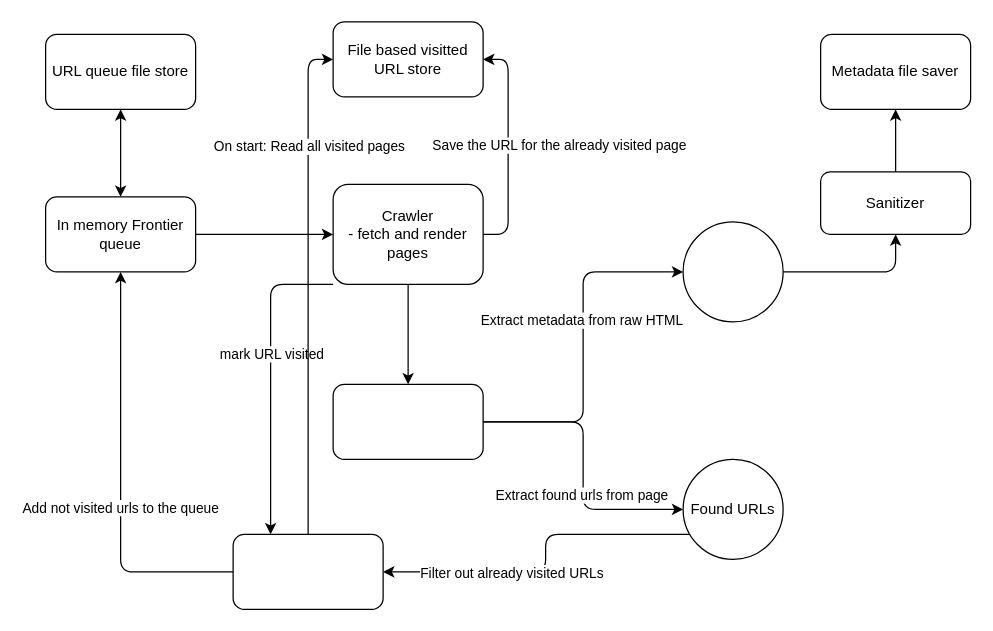
Some shapes in this 993 by 631 pixel diagram are drawn without their labels. The centre of each missing label's shape, as x and y in pixels:
Extracted metadata: pixel 732 271
In memor visited URL store: pixel 307 571
Parser: pixel 407 421
